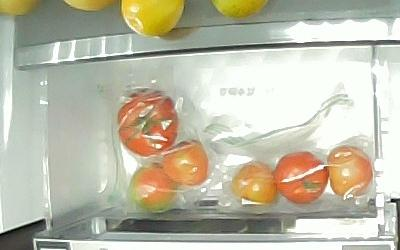tomato_vinyl: (116, 86, 179, 156), (272, 150, 329, 204), (126, 160, 179, 211), (326, 144, 372, 197), (160, 137, 208, 185), (228, 159, 278, 205)
